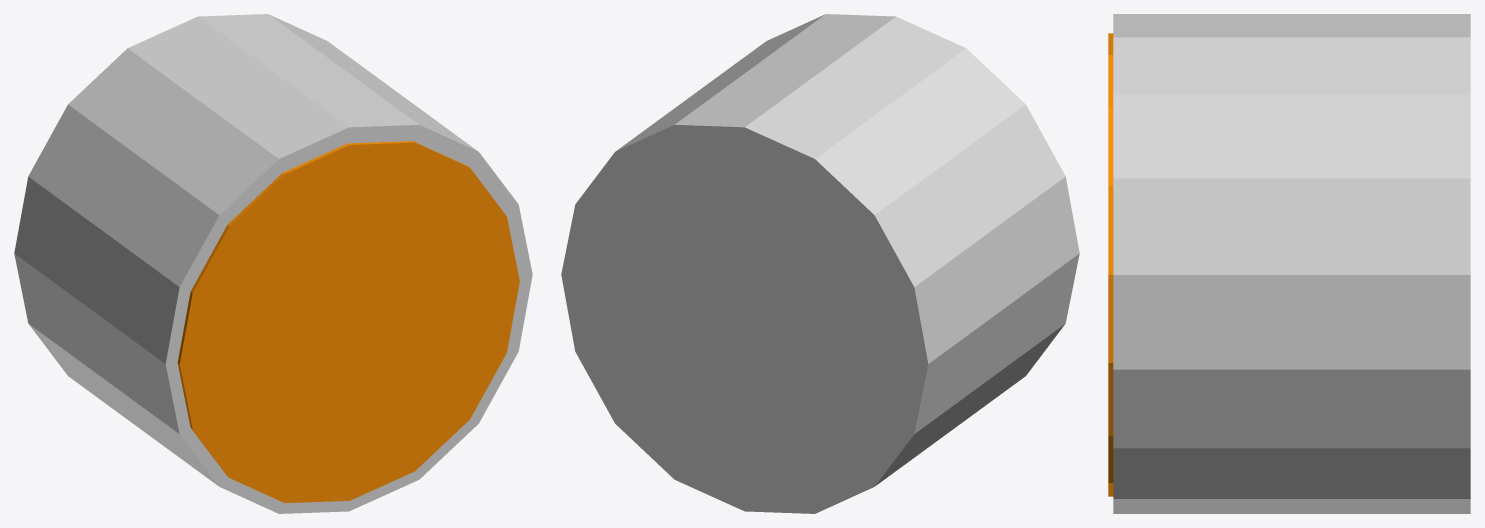
Rendered from platform.obj.
3 views of the same model, side by side, from view 1: azimuth 30°, elevation 25°; view 2: azimuth 150°, elevation 25°; view 3: azimuth 270°, elevation 25° (orthographic). The views are drawn at different scales.
Parts seen in each view (by area): view 1: group_0_16777215, group_0_16748544; view 2: group_0_16777215; view 3: group_0_16777215, group_0_16748544.
Boxes of the visible parts, x1,y1,x2,y2 form: group_0_16777215: (14,14,532,513); group_0_16748544: (177,141,519,503); group_0_16777215: (561,14,1079,513); group_0_16777215: (1113,14,1470,513); group_0_16748544: (1108,33,1113,496).
Bounding box in the file's own units: 98 × 98 × 71.
